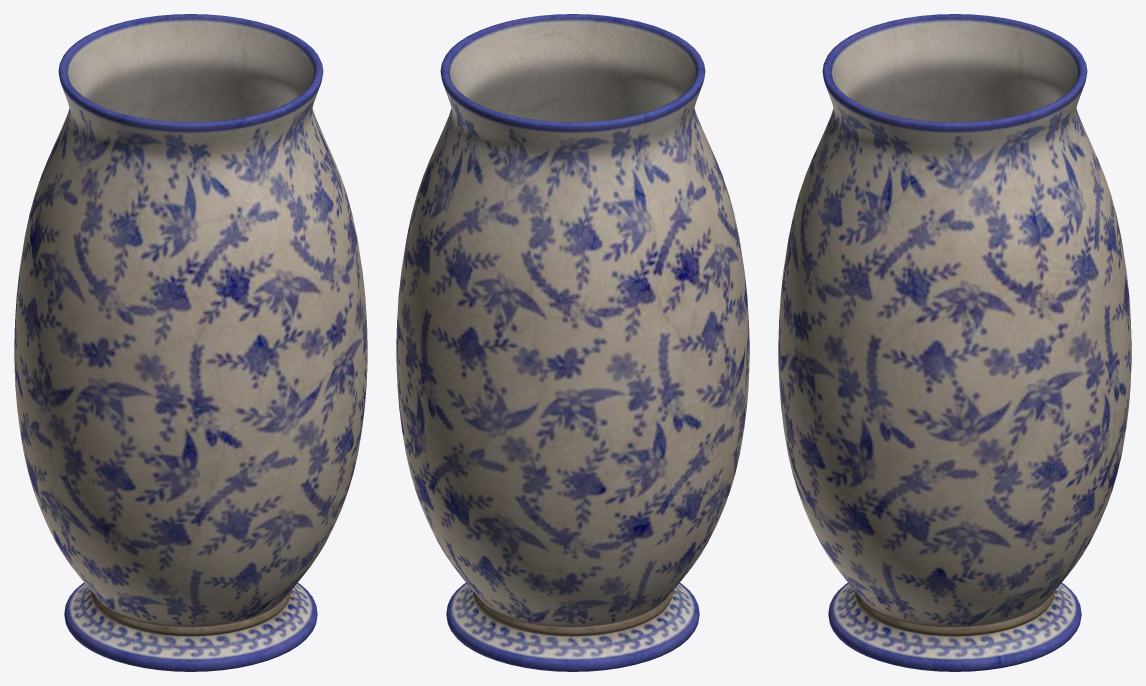
Rendered from 静物_瓶罐_antique_ceramic_vase_opt.glb.
The picture shows the model from 3 angles, left to right: view 1: azimuth 30°, elevation 25°; view 2: azimuth 150°, elevation 25°; view 3: azimuth 270°, elevation 25°; orthographic projection.
Parts seen in each view (by area): view 1: antique_ceramic_vase_01_antique_ceramic_vase_01_0; view 2: antique_ceramic_vase_01_antique_ceramic_vase_01_0; view 3: antique_ceramic_vase_01_antique_ceramic_vase_01_0.
Part boxes in pixels (x1,y1,x2,y2): antique_ceramic_vase_01_antique_ceramic_vase_01_0: (14,14,367,671); antique_ceramic_vase_01_antique_ceramic_vase_01_0: (396,14,749,671); antique_ceramic_vase_01_antique_ceramic_vase_01_0: (778,14,1131,671).
Size of the model in its own units: 0.255 by 0.4396 by 0.255.
1 material, 1 textured.
